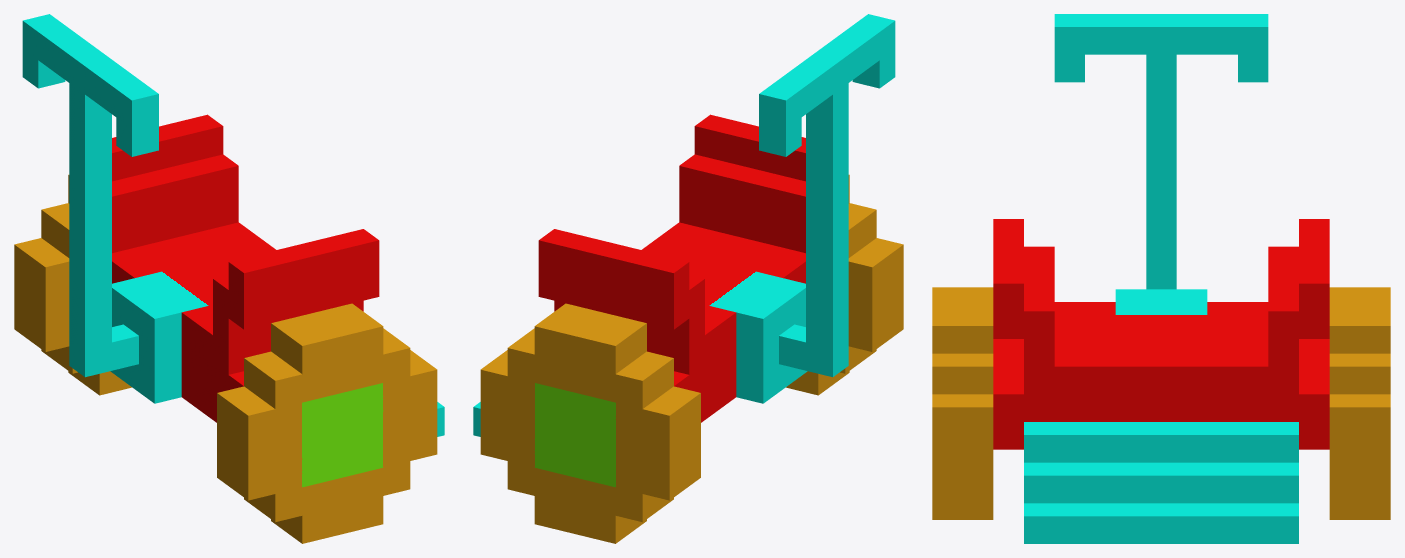
File: Vehicle_21.fbx
3 renders of one model, left to right at view 1: azimuth 30°, elevation 25°; view 2: azimuth 150°, elevation 25°; view 3: azimuth 270°, elevation 25°, orthographic. The views are drawn at different scales.
Visible parts, largest first — view 1: Vehicle_21; view 2: Vehicle_21; view 3: Vehicle_21.
Boxes of the visible parts, box(x1,y1,x2,y2) form: Vehicle_21: box(14, 14, 444, 543); Vehicle_21: box(473, 14, 903, 543); Vehicle_21: box(932, 14, 1390, 543).
Size of the model in its own units: 11 by 15 by 15.
1 material, 1 textured.
